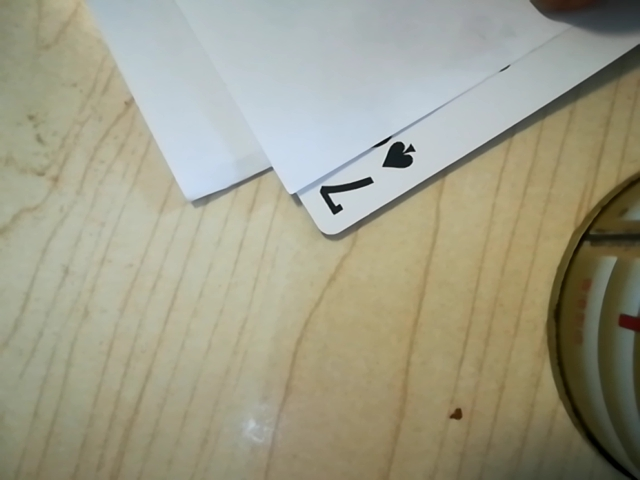ht 7: (307, 131, 432, 231)
